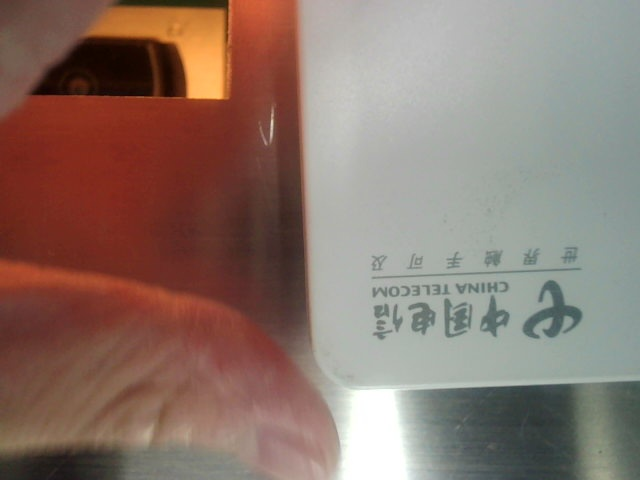AB_ChinaTelecom: (358, 235, 591, 347)
